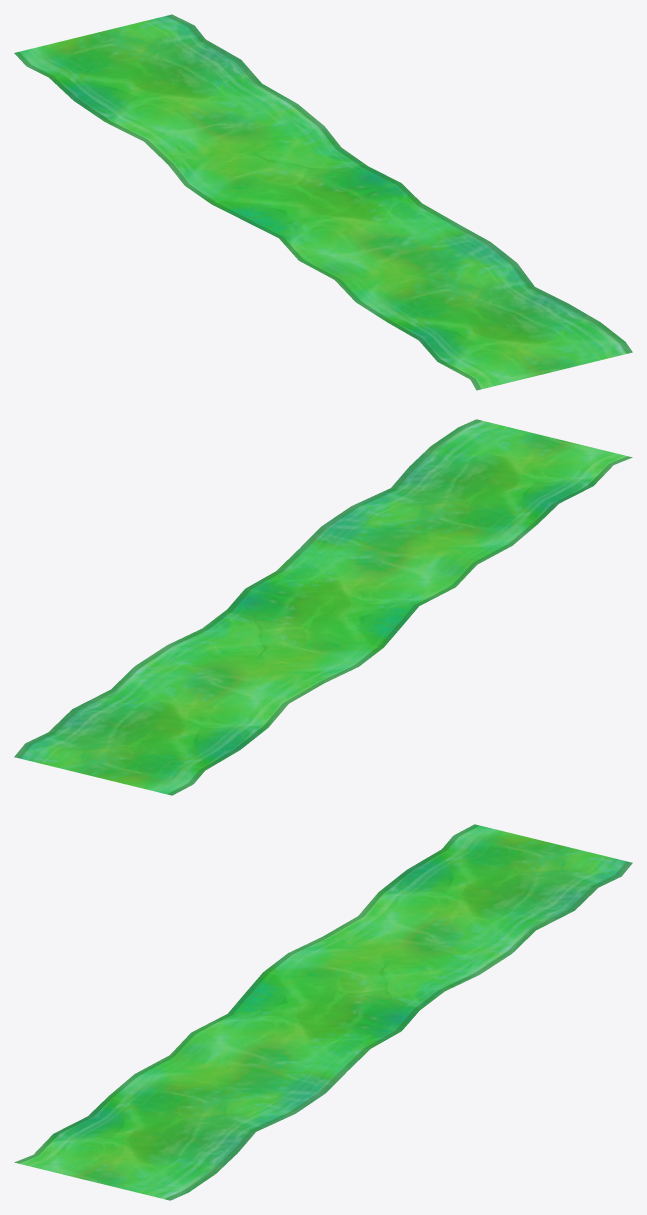
File: Amazon04_Lu04.FBX
3 views of the same model, one above another, from view 1: azimuth 30°, elevation 25°; view 2: azimuth 150°, elevation 25°; view 3: azimuth 330°, elevation 25° (orthographic).
Parts seen in each view (by area): view 1: Amazon04_Lu04; view 2: Amazon04_Lu04; view 3: Amazon04_Lu04.
Boxes of the visible parts, left/top/right/bottom form: Amazon04_Lu04: left=14, top=14, right=632, bottom=390; Amazon04_Lu04: left=14, top=419, right=632, bottom=795; Amazon04_Lu04: left=14, top=824, right=632, bottom=1200.
Size of the model in its own units: 1069 by 0.000244 by 4969.
